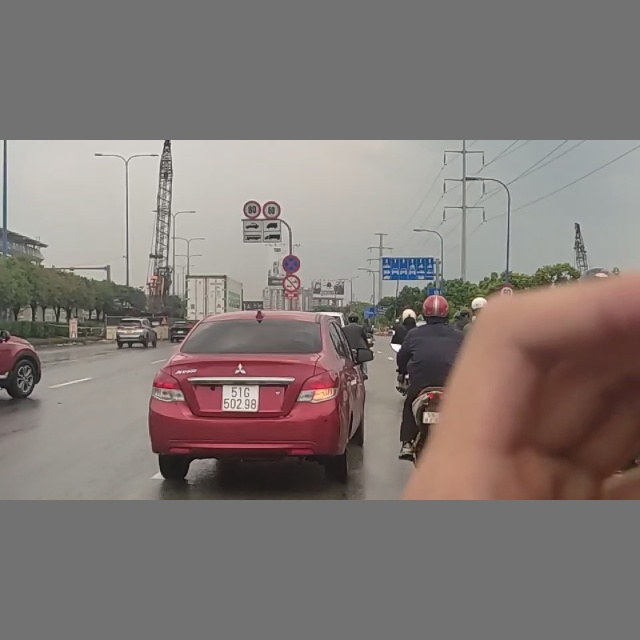P.127*60: (262, 201, 281, 219)
P.127*80: (242, 200, 261, 219)
P.130: (281, 254, 301, 273)
